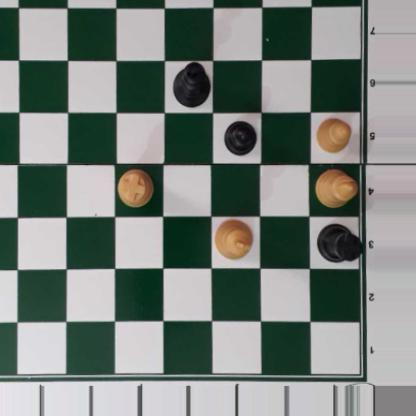black-king: (171, 61, 211, 107)
black-pawn: (224, 118, 257, 155)
black-rook: (316, 221, 360, 264)
white-bishop: (315, 167, 359, 208)
white-king: (214, 217, 253, 261)
white-pawn: (315, 118, 351, 152)
white-rook: (118, 168, 152, 207)
